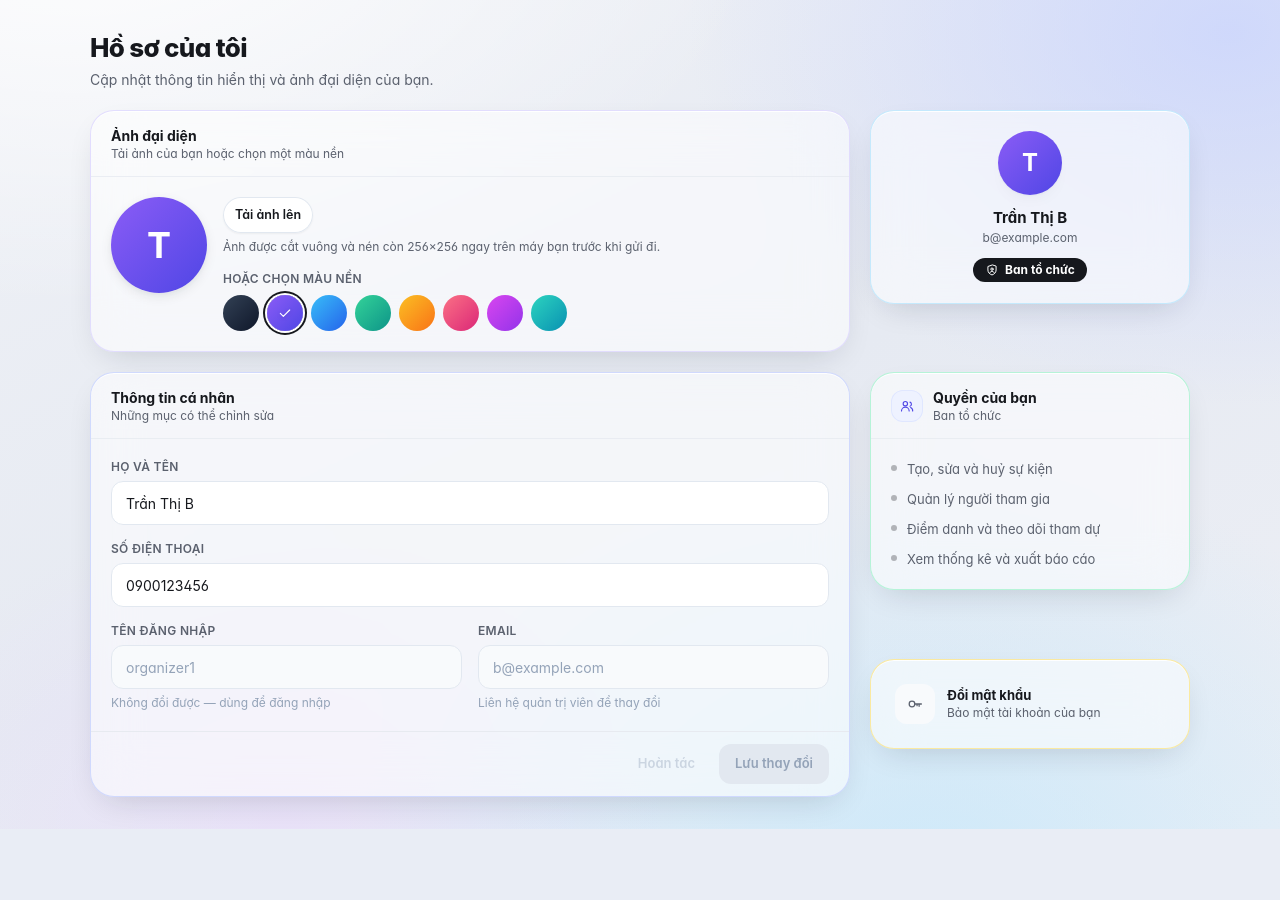
Scenario: ProfilePage › đổi màu avatar bằng bộ chọn và hoàn tác được về giá trị cũ
This screenshot has width=1280, height=900.
Click the button named "Xanh biển" at [329, 313], box [311,295,347,331]
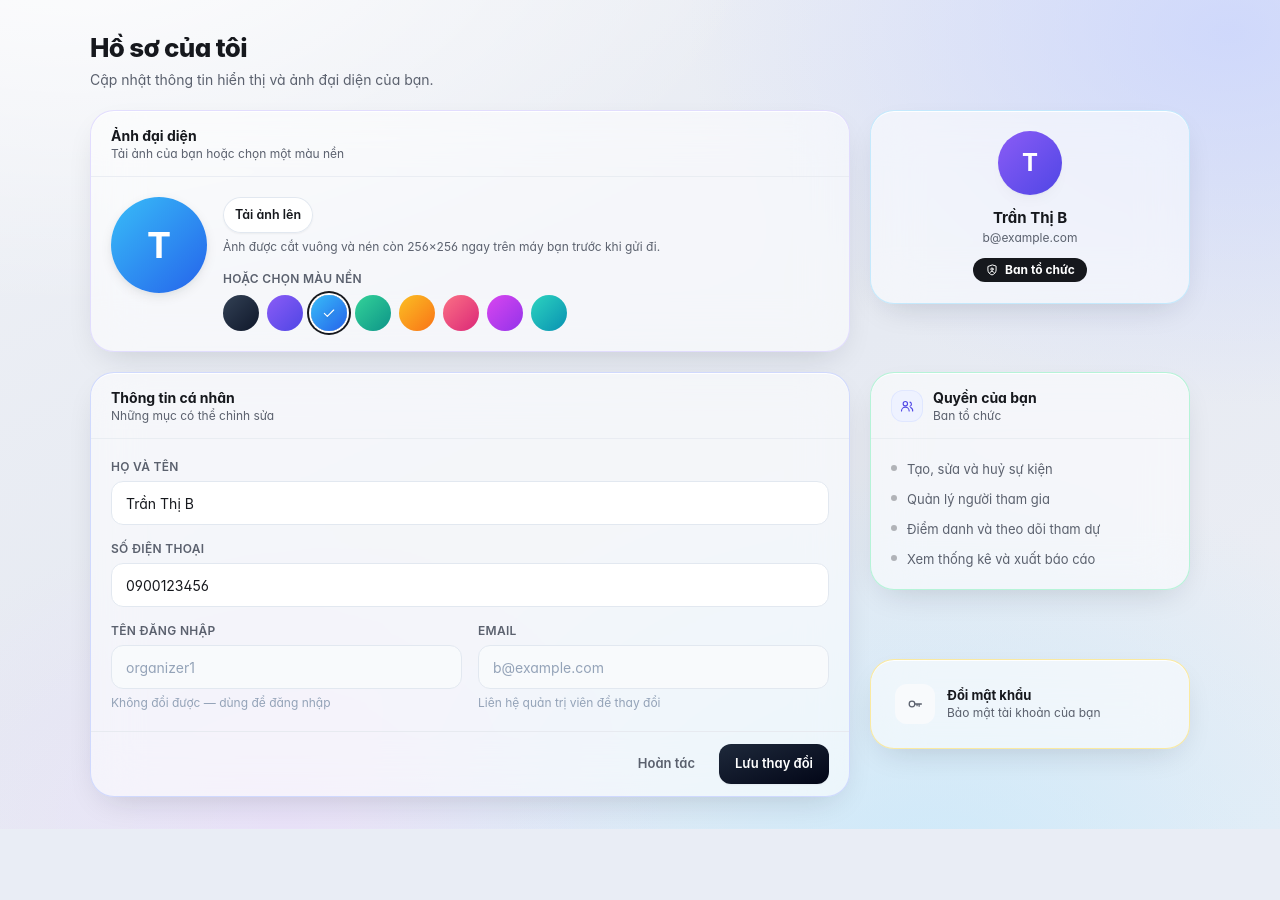
Now the button "Lưu thay đổi" is enabled, box [719,744,829,784]
Click the button "Hoàn tác" at [666, 764], box [622,744,711,784]
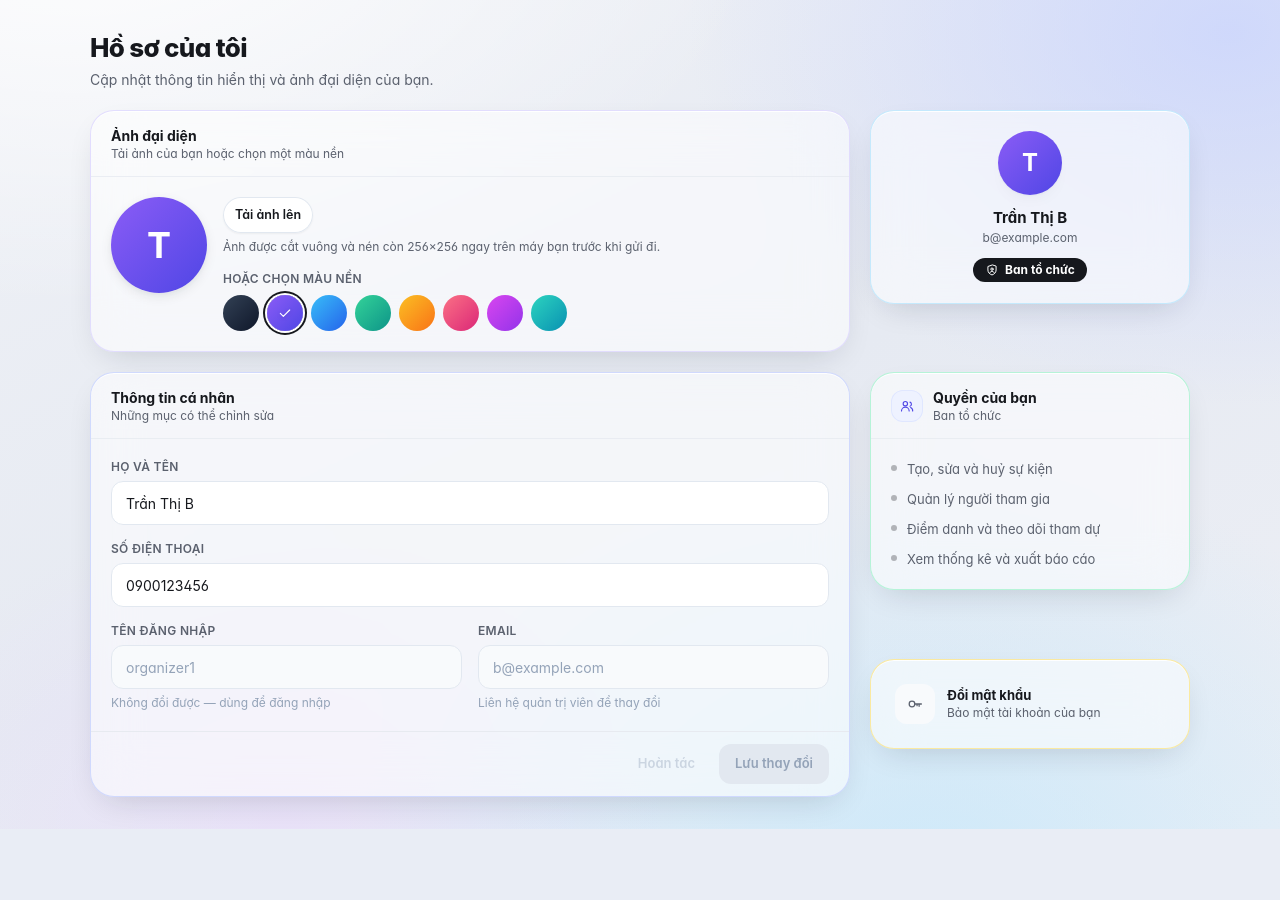
Now the button "Lưu thay đổi" is disabled, box [719,744,829,784]
